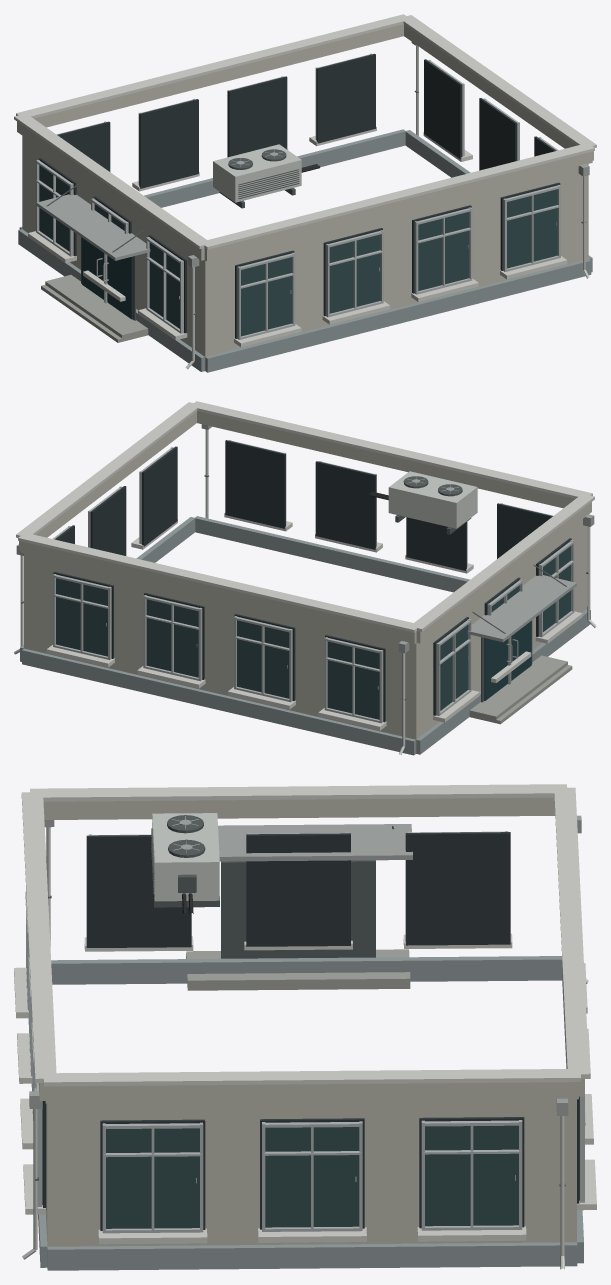
Rendered from osm_way_225092103.glb.
The picture shows the model from 3 angles, top to bottom: view 1: azimuth 30°, elevation 25°; view 2: azimuth 150°, elevation 25°; view 3: azimuth 270°, elevation 25°; orthographic projection. The views are drawn at different scales.
Parts seen in each view (by area): view 1: Windows and facade details | 热水房, Architecture | 热水房, Roof services | 热水房, EXTERIOR::osm_way_225092103::inferred entry doors canopy and, EXTERIOR::osm_way_225092103::rainwater and roof service deta; view 2: Architecture | 热水房, Windows and facade details | 热水房, Roof services | 热水房, EXTERIOR::osm_way_225092103::inferred entry doors canopy and, EXTERIOR::osm_way_225092103::rainwater and roof service deta; view 3: Architecture | 热水房, Windows and facade details | 热水房, Roof services | 热水房, EXTERIOR::osm_way_225092103::inferred entry doors canopy and, EXTERIOR::osm_way_225092103::rainwater and roof service deta.
Part boxes in pixels (x1=…): Windows and facade details | 热水房: x1=28, y1=53, x2=567, y2=347; Architecture | 热水房: x1=17, y1=24, x2=593, y2=372; Roof services | 热水房: x1=14, y1=14, x2=596, y2=249; EXTERIOR::osm_way_225092103::inferred entry doors canopy and: x1=36, y1=183, x2=150, y2=342; EXTERIOR::osm_way_225092103::rainwater and roof service deta: x1=185, y1=42, x2=589, y2=369; Architecture | 热水房: x1=19, y1=411, x2=591, y2=755; Windows and facade details | 热水房: x1=46, y1=440, x2=582, y2=730; Roof services | 热水房: x1=16, y1=401, x2=594, y2=632; EXTERIOR::osm_way_225092103::inferred entry doors canopy and: x1=467, y1=564, x2=576, y2=724; EXTERIOR::osm_way_225092103::rainwater and roof service deta: x1=14, y1=424, x2=596, y2=754; Architecture | 热水房: x1=28, y1=797, x2=584, y2=1270; Windows and facade details | 热水房: x1=14, y1=831, x2=596, y2=1244; Roof services | 热水房: x1=21, y1=784, x2=589, y2=1086; EXTERIOR::osm_way_225092103::inferred entry doors canopy and: x1=186, y1=824, x2=412, y2=990; EXTERIOR::osm_way_225092103::rainwater and roof service deta: x1=22, y1=813, x2=588, y2=1269.
Size of the model in its own units: 16.45 by 5.36 by 12.56.
